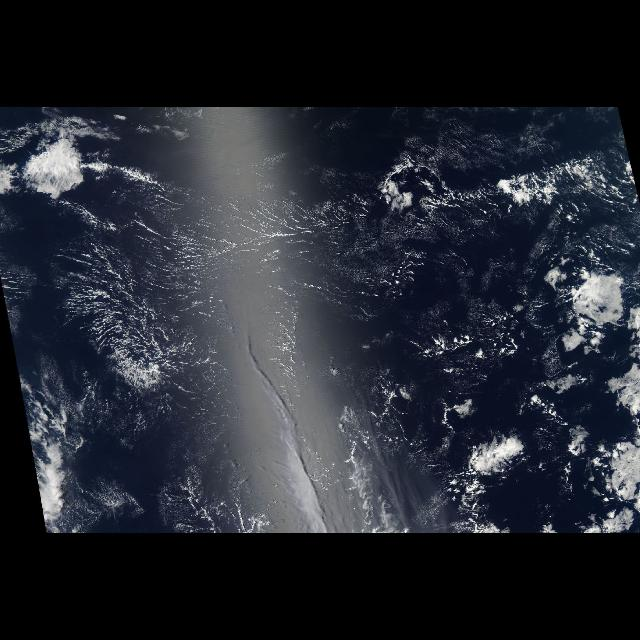Fish: (98, 187, 466, 276)
Flower: (494, 228, 640, 534)
